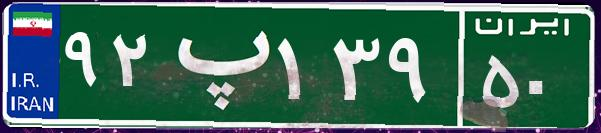0: (525, 38, 570, 115)
1: (273, 28, 330, 110)
2: (110, 28, 158, 105)
3: (330, 28, 385, 110)
5: (475, 38, 525, 113)
9: (385, 28, 445, 110), (57, 26, 110, 107)
پ: (158, 15, 273, 115)
